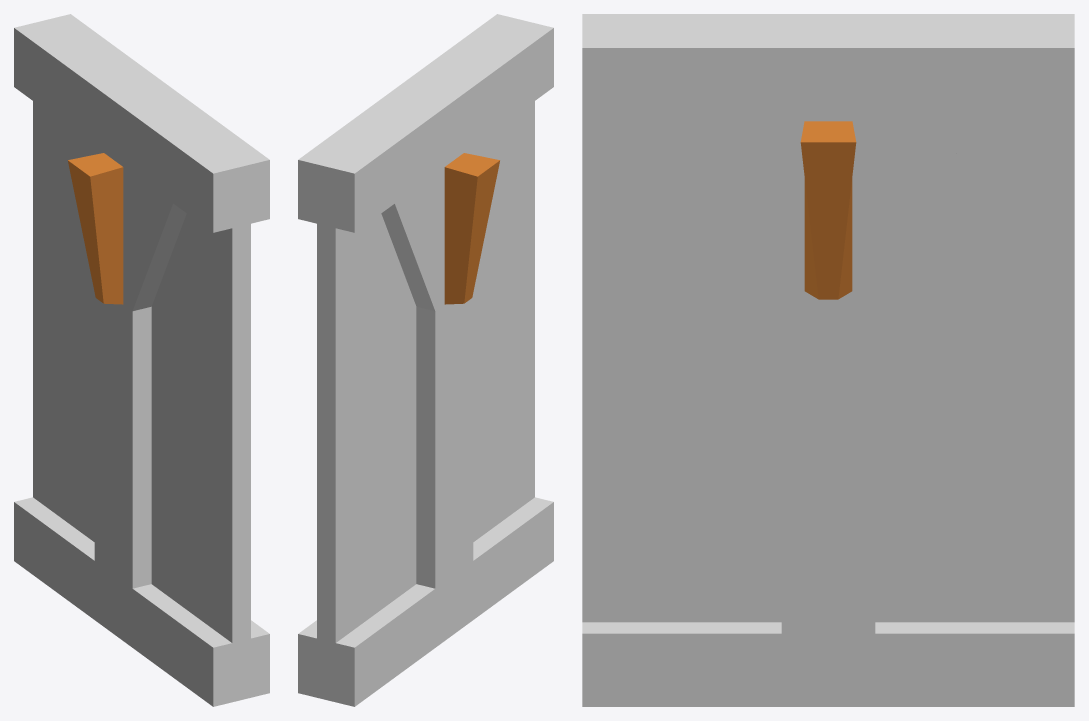
File: Muro.fbx
The picture shows the model from 3 angles, left to right: view 1: azimuth 30°, elevation 25°; view 2: azimuth 150°, elevation 25°; view 3: azimuth 270°, elevation 25°; orthographic projection. The views are drawn at different scales.
Visible parts, largest first — view 1: Cube; view 2: Cube; view 3: Cube.
Part boxes in pixels (box(x1,y1,x2,y2)): Cube: box(14, 14, 269, 706); Cube: box(298, 14, 553, 706); Cube: box(582, 14, 1074, 706).
Bounding box in the file's own units: 445 × 1800 × 1219.
